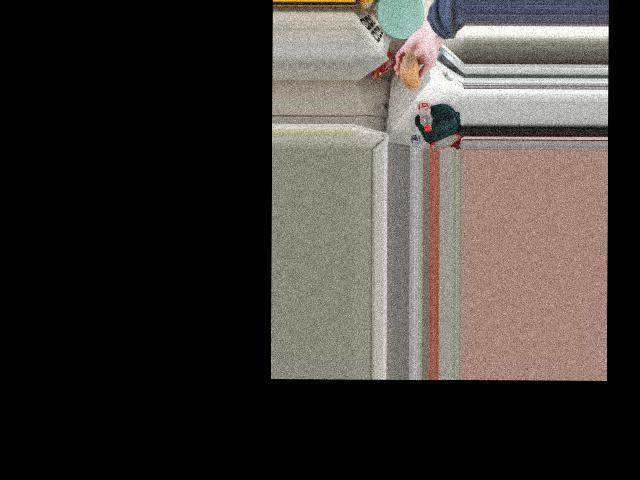sweet_potato: (402, 46, 422, 93)
